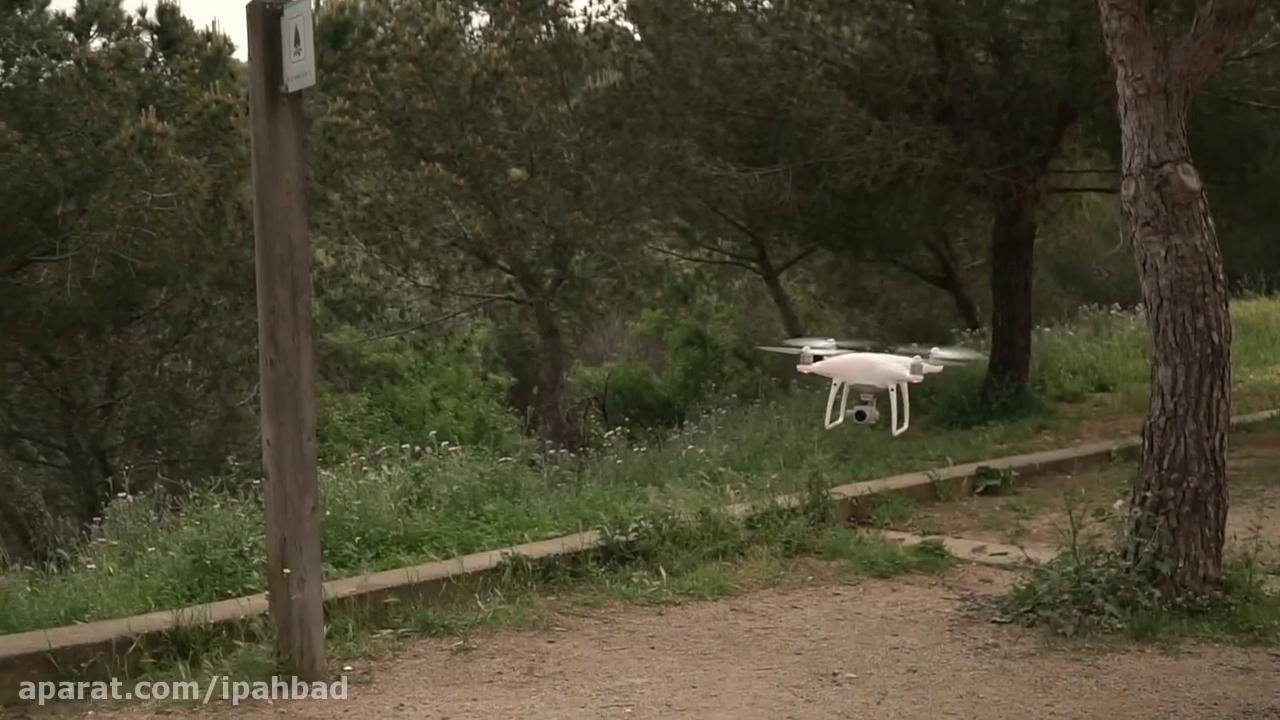drone: (753, 334, 984, 437)
